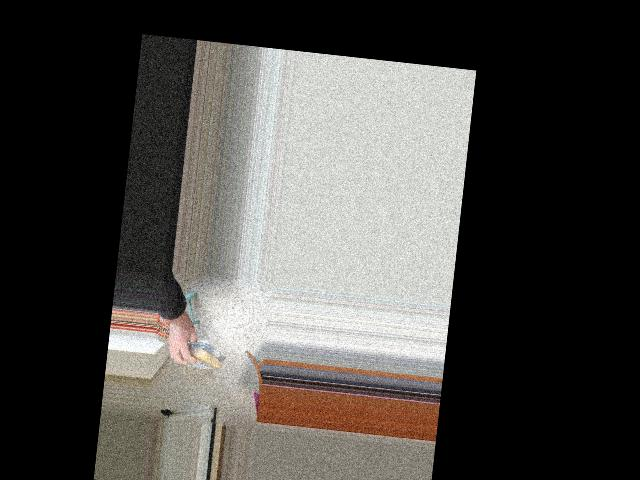cheese: (178, 344, 227, 372)
